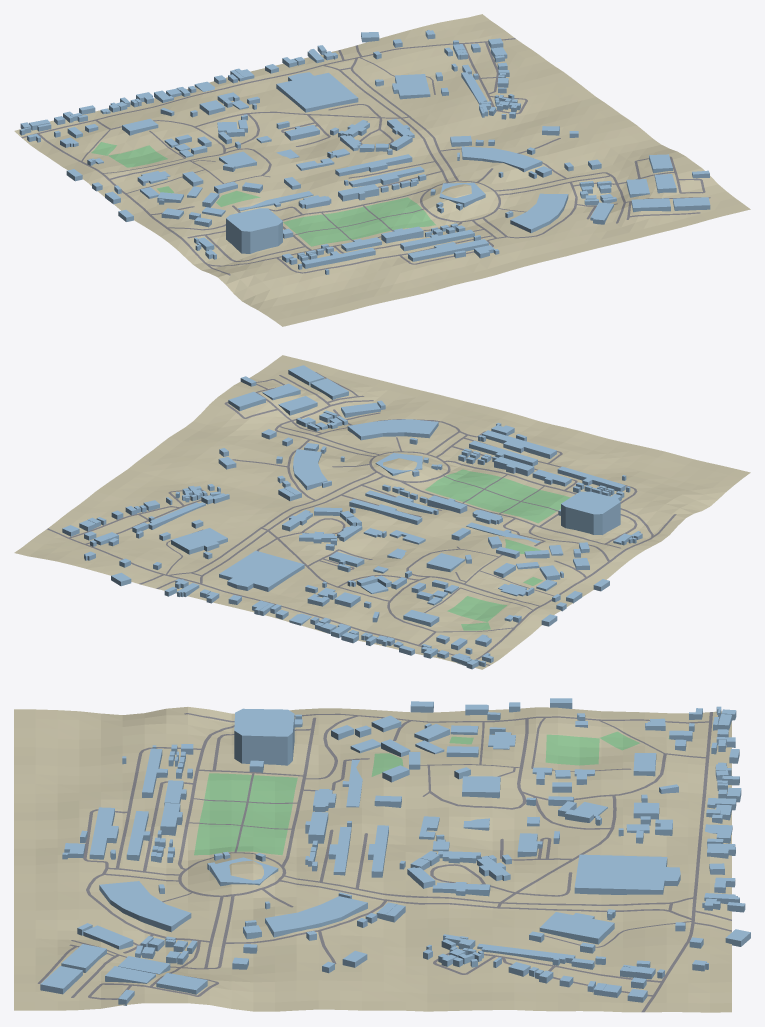
File: kampus.glb
3 views of the same model, one above another, from view 1: azimuth 30°, elevation 25°; view 2: azimuth 150°, elevation 25°; view 3: azimuth 270°, elevation 25° (orthographic). The views are drawn at different scales.
Parts seen in each view (by area): view 1: TPX_TERRAIN_TERRAIN_MESH, TPX_BUILDINGS, TPX_ROADS_HATCH, TPX_VEGETATION_GREEN_SPACES_HATCH; view 2: TPX_TERRAIN_TERRAIN_MESH, TPX_BUILDINGS, TPX_ROADS_HATCH, TPX_VEGETATION_GREEN_SPACES_HATCH; view 3: TPX_TERRAIN_TERRAIN_MESH, TPX_BUILDINGS, TPX_ROADS_HATCH, TPX_VEGETATION_GREEN_SPACES_HATCH.
Boxes of the visible parts, bbox=[...] form: TPX_TERRAIN_TERRAIN_MESH: bbox=[14, 14, 750, 326]; TPX_BUILDINGS: bbox=[19, 30, 710, 274]; TPX_ROADS_HATCH: bbox=[21, 38, 710, 275]; TPX_VEGETATION_GREEN_SPACES_HATCH: bbox=[80, 136, 435, 246]; TPX_TERRAIN_TERRAIN_MESH: bbox=[14, 355, 750, 669]; TPX_BUILDINGS: bbox=[62, 365, 642, 669]; TPX_ROADS_HATCH: bbox=[47, 372, 676, 665]; TPX_VEGETATION_GREEN_SPACES_HATCH: bbox=[425, 469, 570, 630]; TPX_TERRAIN_TERRAIN_MESH: bbox=[14, 707, 731, 1012]; TPX_BUILDINGS: bbox=[40, 698, 750, 1005]; TPX_ROADS_HATCH: bbox=[37, 712, 731, 1012]; TPX_VEGETATION_GREEN_SPACES_HATCH: bbox=[194, 731, 669, 855].
Bounding box in the file's own units: 658 × 35.09 × 660.
